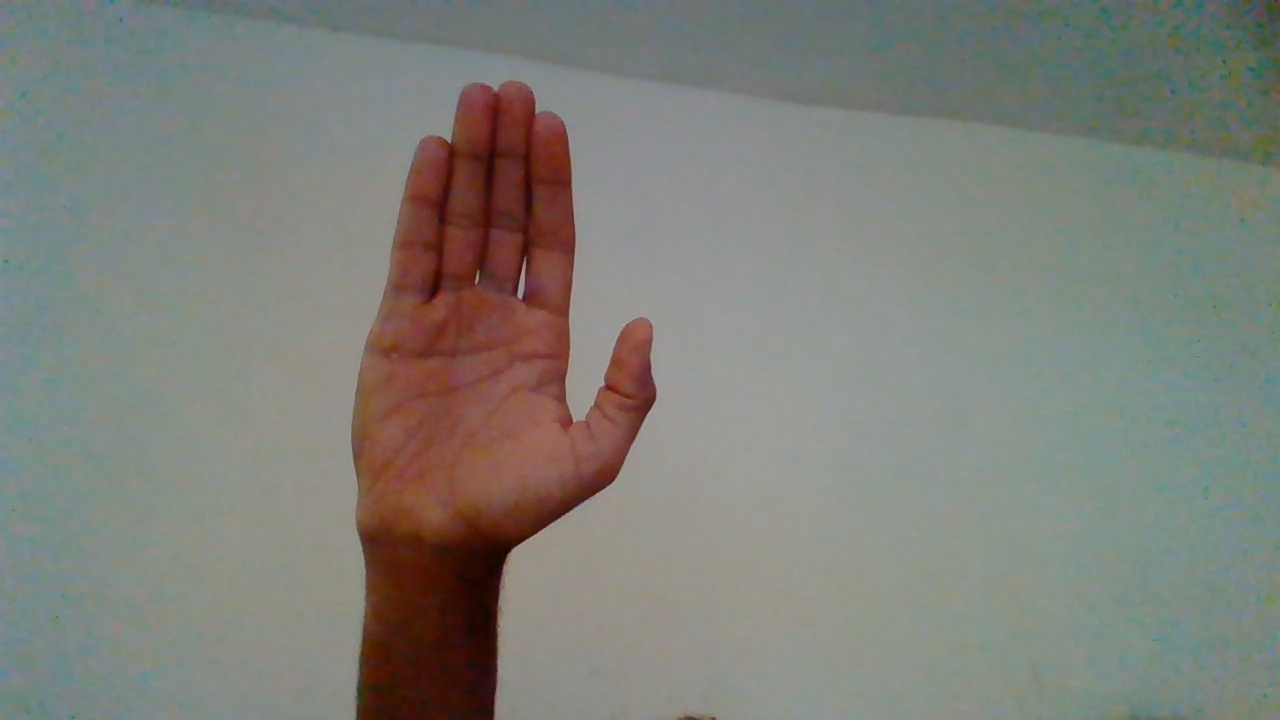ha: (358, 84, 661, 631)
